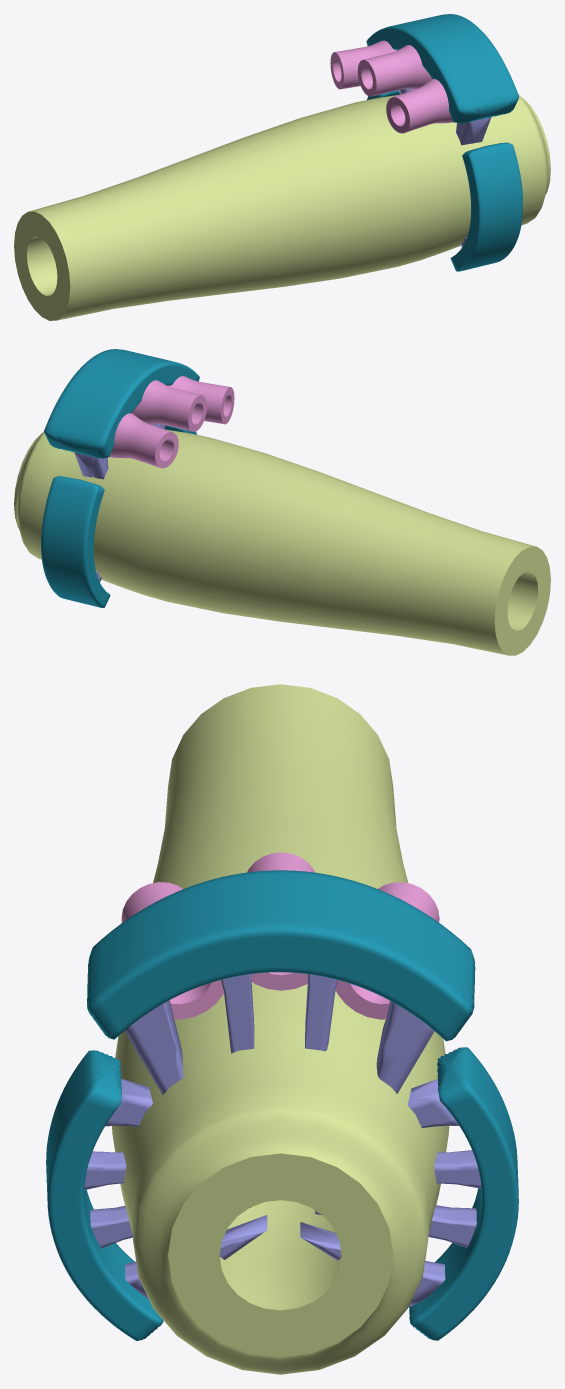
The model's file is missile2.DAE.
3 renders of one model, top to bottom at view 1: azimuth 30°, elevation 25°; view 2: azimuth 150°, elevation 25°; view 3: azimuth 270°, elevation 25°, orthographic. The views are drawn at different scales.
Parts seen in each view (by area): view 1: Loft001, Loft003, Loft012, Loft005, Loft015, Loft016, Loft002; view 2: Loft001, Loft003, Loft013, Loft005, Loft016, Loft015, Loft002; view 3: Loft001, Loft003, Loft012, Loft013, Loft002, Loft014, Loft011, Loft015, Loft016, Loft005.
Boxes of the visible parts, box(x1,y1,x2,y2) form: Loft001: box(14, 94, 550, 320); Loft003: box(366, 14, 519, 123); Loft012: box(450, 142, 522, 271); Loft005: box(357, 45, 431, 96); Loft015: box(386, 79, 453, 133); Loft016: box(330, 40, 396, 89); Loft002: box(399, 89, 491, 145); Loft001: box(14, 429, 550, 655); Loft003: box(44, 349, 199, 458); Loft013: box(41, 476, 110, 607); Loft005: box(132, 380, 206, 431); Loft016: box(109, 413, 178, 468); Loft015: box(168, 376, 234, 424); Loft002: box(74, 424, 166, 479); Loft001: box(112, 684, 449, 1374); Loft003: box(87, 870, 475, 1041); Loft012: box(46, 1050, 163, 1340); Loft013: box(409, 1047, 518, 1340); Loft002: box(125, 974, 434, 1095); Loft014: box(300, 1079, 481, 1306); Loft011: box(84, 1079, 267, 1298); Loft015: box(121, 882, 223, 1019); Loft016: box(336, 882, 439, 1019); Loft005: box(247, 852, 315, 990).
Bounding box in the file's own units: 60 × 25.55 × 25.88.
